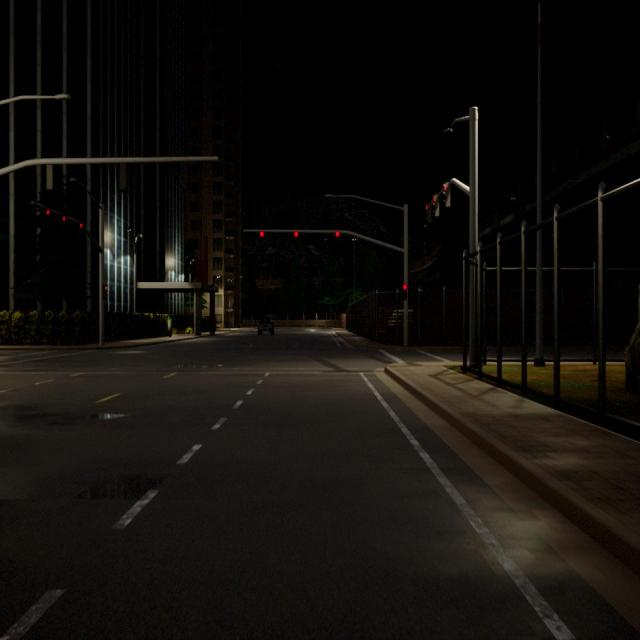Vehicle: (258, 318, 274, 336)
traffic_light: (442, 182, 450, 207), (433, 194, 439, 216), (402, 284, 408, 301), (102, 283, 108, 300), (426, 203, 431, 223), (45, 208, 50, 215), (260, 230, 264, 238), (335, 231, 340, 237), (62, 215, 66, 222), (294, 231, 298, 237), (79, 222, 83, 228)
